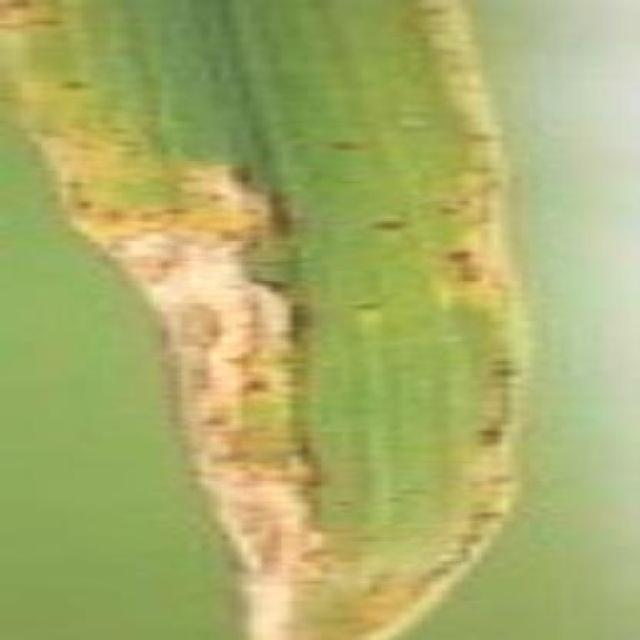Brown_Spot: (94, 0, 501, 631)
